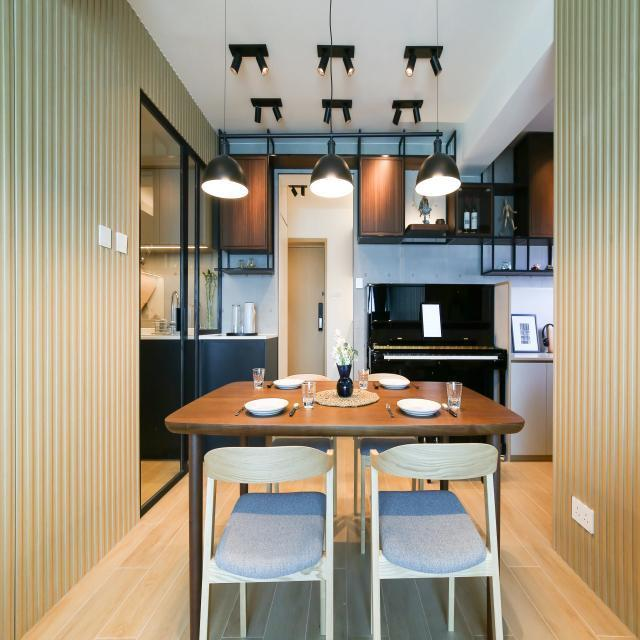table: (162, 356, 528, 640)
